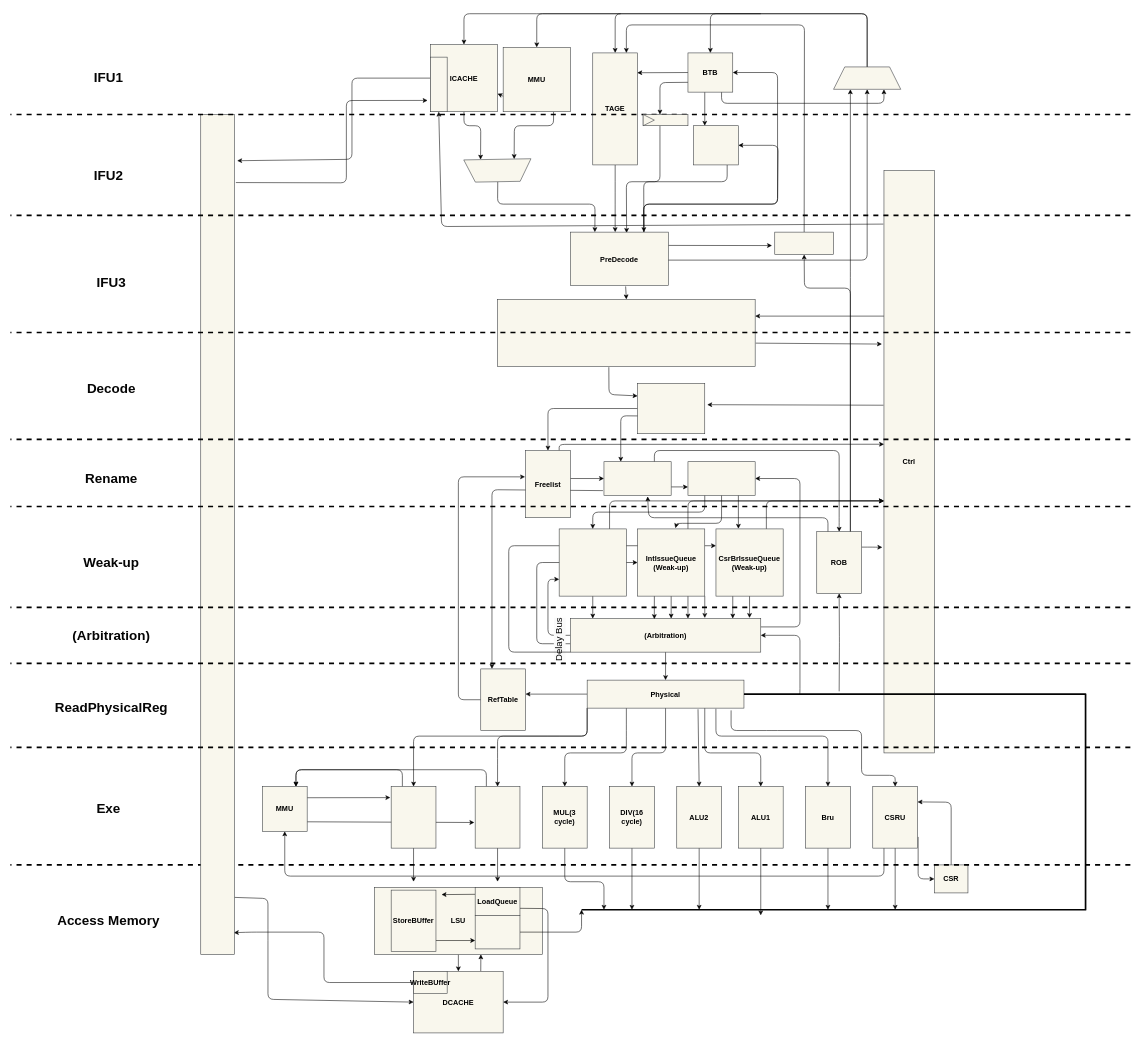
Image size: 1141x1043. Some labels were removed from this diagram. Here are the shapes that lost their labels. From the top down, the centre of each, then its label:
At pixel 438 84: "MSHR".
At pixel 867 77: "PC".
At pixel 715 145: "RAS".
At pixel 804 243: "TAGE Group".
At pixel 626 333: "InstQUeue".
At pixel 671 408: "Decode(4Way)".
At pixel 637 478: "RAT(Sram)".
At pixel 721 478: "BusyTable".
At pixel 217 534: "AXI".
At pixel 592 562: "MemIssueQueue (Weak-up)".
At pixel 413 817: "AGUstore".
At pixel 497 817: "AGUload".
At pixel 497 932: "LoadBuffer".
